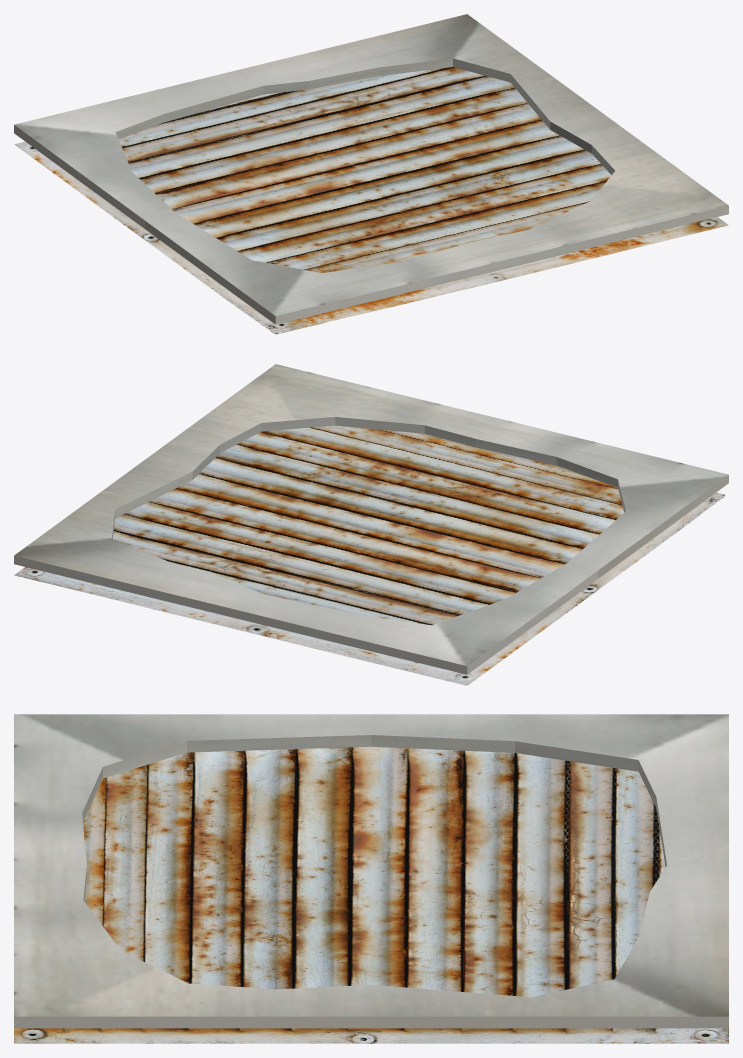
File: Vent.fbx
3 views of the same model, one above another, from view 1: azimuth 30°, elevation 25°; view 2: azimuth 150°, elevation 25°; view 3: azimuth 270°, elevation 25° (orthographic). The views are drawn at different scales.
Visible parts, largest first — view 1: Plane.001, Plane.002; view 2: Plane.001, Plane.002; view 3: Plane.001, Plane.002.
Part boxes in pixels (x1,y1,x2,y2): Plane.001: [14, 67, 728, 334]; Plane.002: [14, 14, 728, 324]; Plane.001: [14, 425, 725, 685]; Plane.002: [14, 364, 728, 674]; Plane.001: [14, 746, 728, 1043]; Plane.002: [14, 714, 728, 1028].
Size of the model in its own units: 200 by 8.31 by 200.
